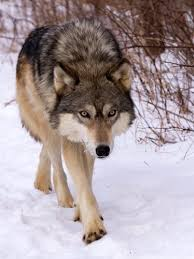Lobo: (13, 20, 139, 244)
